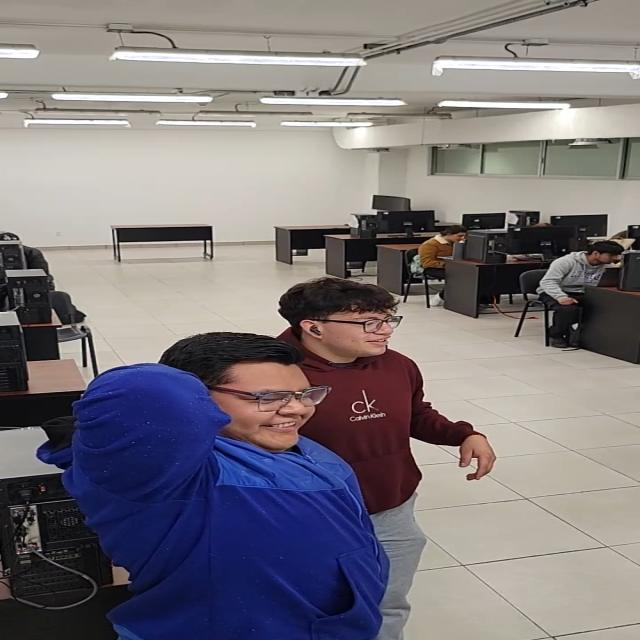Persona: (78, 323, 480, 636), (269, 259, 524, 540)
